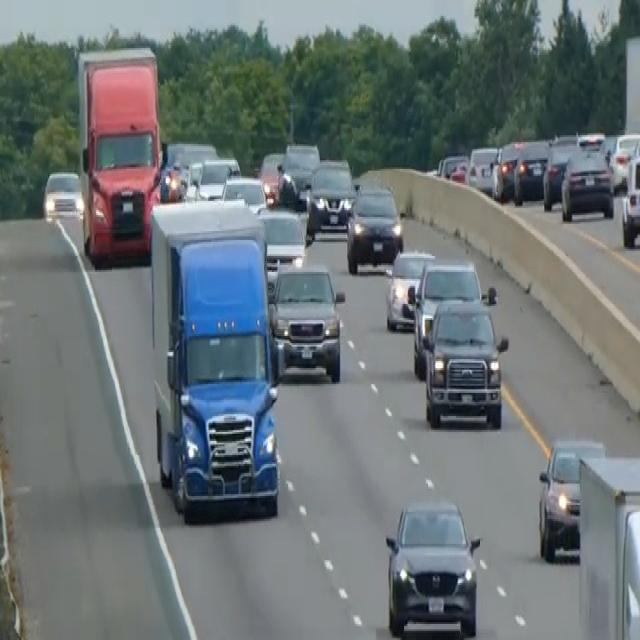car: (269, 262, 345, 382), (536, 436, 605, 562), (345, 181, 403, 274), (255, 205, 307, 295), (384, 247, 435, 331), (560, 144, 614, 220), (306, 156, 356, 234), (160, 139, 217, 199), (541, 133, 577, 210), (277, 140, 320, 204), (186, 155, 241, 201), (512, 137, 549, 204), (42, 167, 82, 221), (490, 139, 522, 201), (606, 130, 639, 190), (220, 172, 267, 214), (620, 151, 639, 247), (466, 142, 498, 194), (257, 149, 284, 203), (436, 151, 468, 183)
jeep: (383, 496, 482, 638), (422, 294, 508, 428), (409, 258, 486, 377)
lorry: (147, 195, 284, 522), (75, 42, 165, 266), (576, 452, 639, 638)
